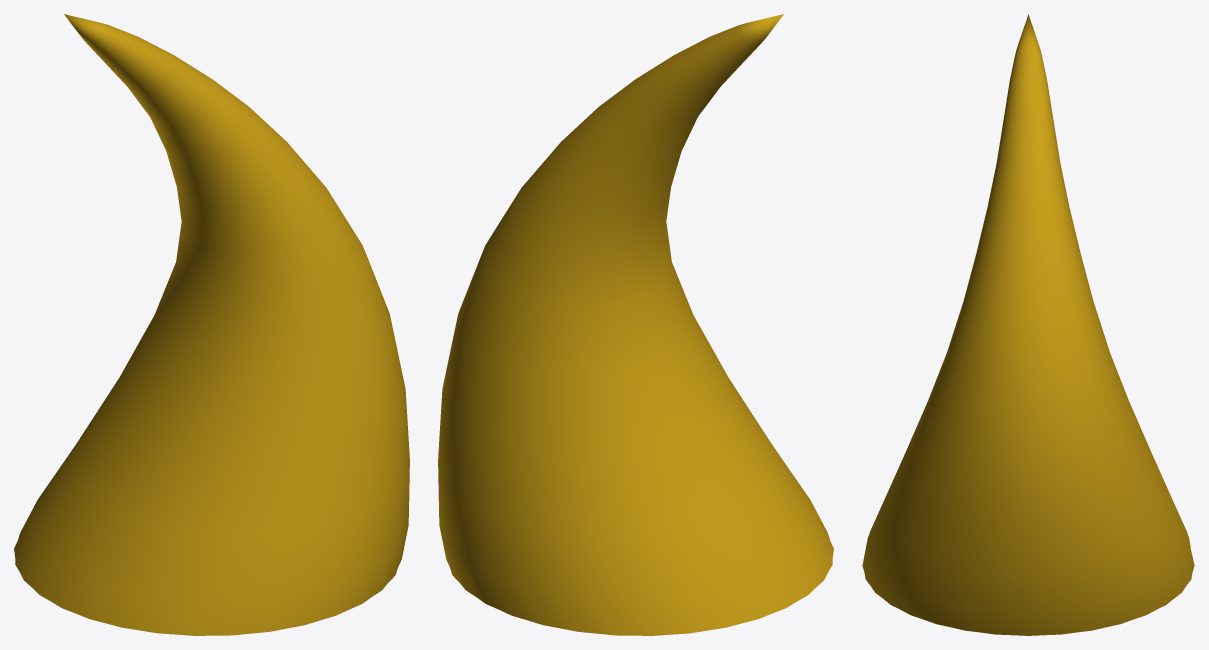
File: rock_modle2.fbx
The picture shows the model from 3 angles, left to right: view 1: azimuth 30°, elevation 25°; view 2: azimuth 150°, elevation 25°; view 3: azimuth 270°, elevation 25°; orthographic projection. The views are drawn at different scales.
Visible parts, largest first — view 1: rock_modle2; view 2: rock_modle2; view 3: rock_modle2.
Part boxes in pixels (x1,y1,x2,y2): rock_modle2: [14, 14, 409, 635]; rock_modle2: [438, 14, 833, 635]; rock_modle2: [862, 14, 1194, 635].
Size of the model in its own units: 140 by 221 by 135.
